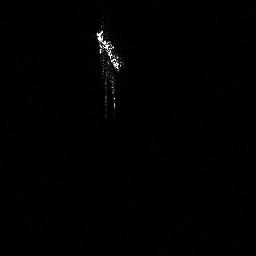ship: (93, 25, 130, 78)
